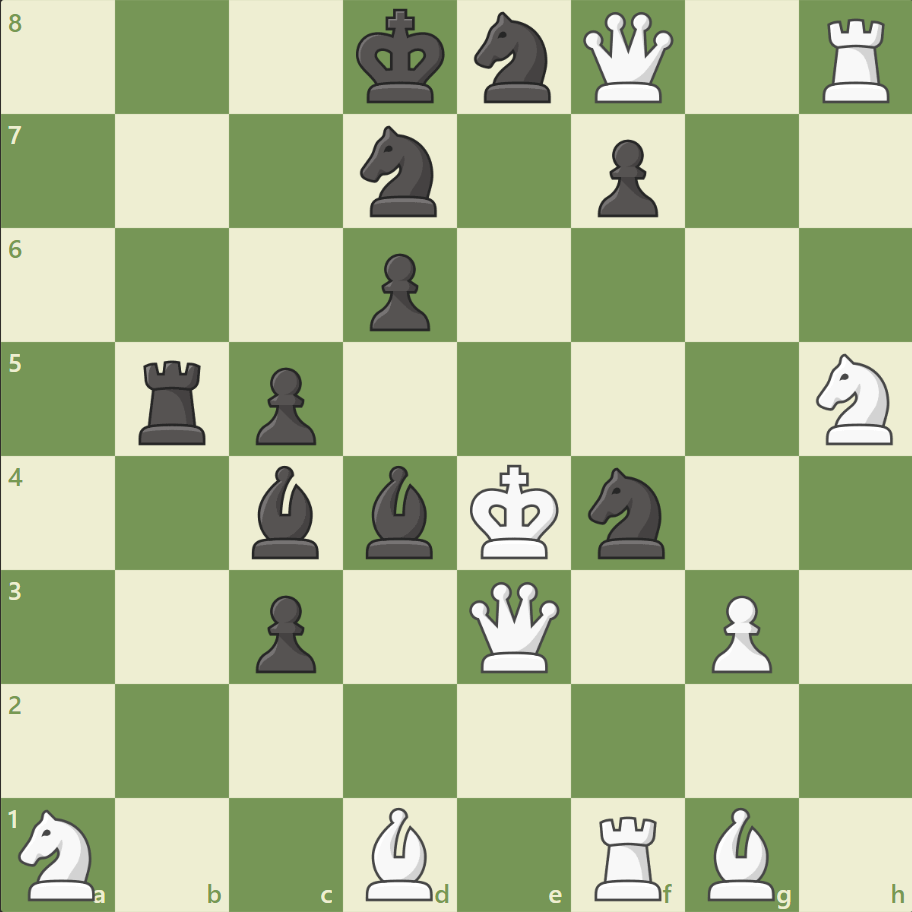B: (358, 801, 442, 904), (698, 801, 782, 904)
K: (465, 458, 565, 566)
N: (806, 348, 903, 450), (11, 802, 108, 904)
P: (701, 586, 776, 677)
Q: (464, 576, 563, 676), (578, 9, 677, 108)
R: (587, 806, 670, 904), (814, 12, 897, 109)
b: (244, 460, 328, 563), (358, 460, 442, 563)
k: (351, 4, 451, 112)
n: (351, 121, 449, 223), (465, 7, 562, 110), (579, 461, 676, 564)
p: (247, 359, 322, 450), (247, 586, 322, 677), (588, 132, 662, 223), (361, 246, 435, 337)
r: (133, 352, 215, 449)
